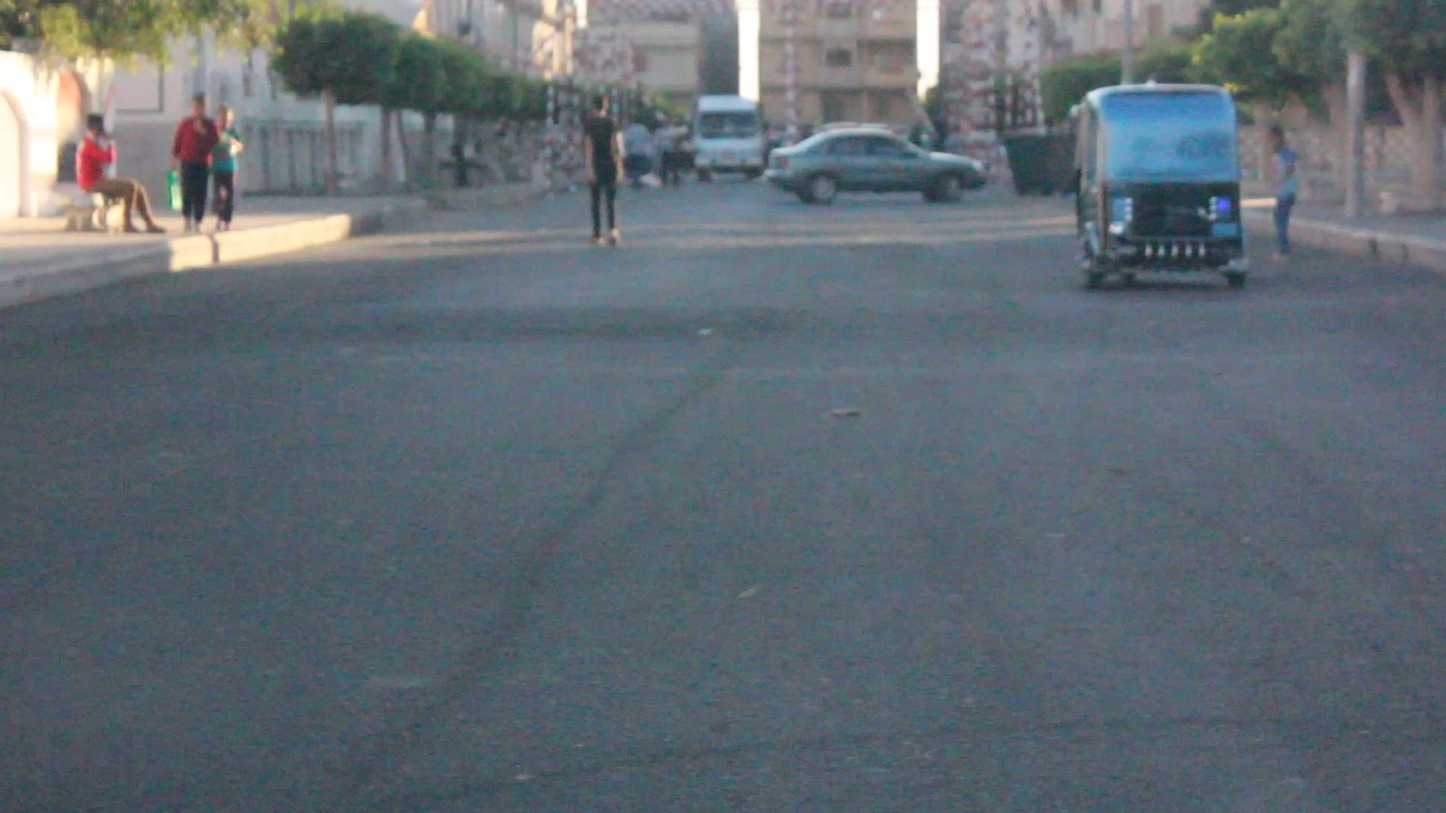Bump: (8, 305, 1446, 406)
